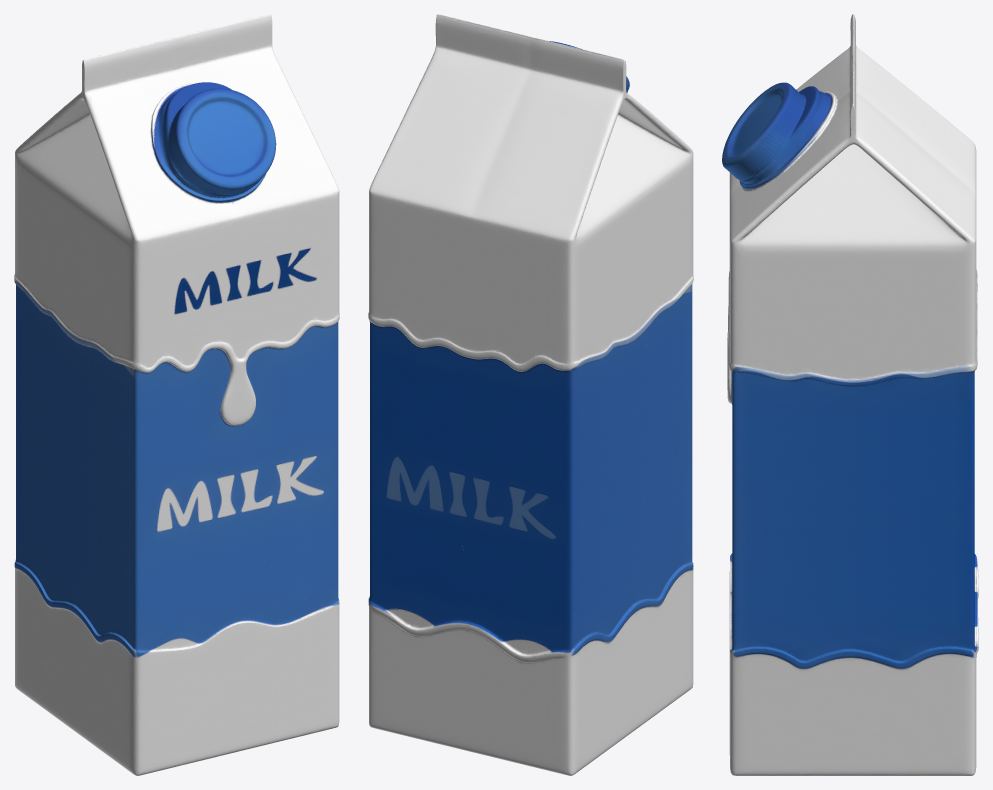
The model's file is Tetra_Milk_New.glb.
The picture shows the model from 3 angles, left to right: view 1: azimuth 30°, elevation 25°; view 2: azimuth 150°, elevation 25°; view 3: azimuth 270°, elevation 25°; orthographic projection.
Visible parts, largest first — view 1: Mesh_0.001; view 2: Mesh_0.001; view 3: Mesh_0.001.
Part boxes in pixels (<box>): Mesh_0.001: <box>14,14,339,775</box>; Mesh_0.001: <box>368,14,693,775</box>; Mesh_0.001: <box>722,14,978,775</box>.
Size of the model in its own units: 0.0816 by 0.25 by 0.0871.
1 material, 1 textured.
